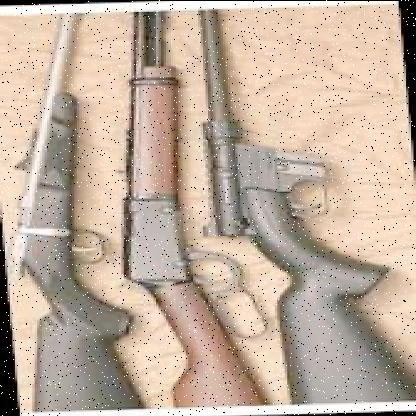rifle: (188, 14, 406, 352), (104, 18, 228, 409), (0, 26, 119, 416)
